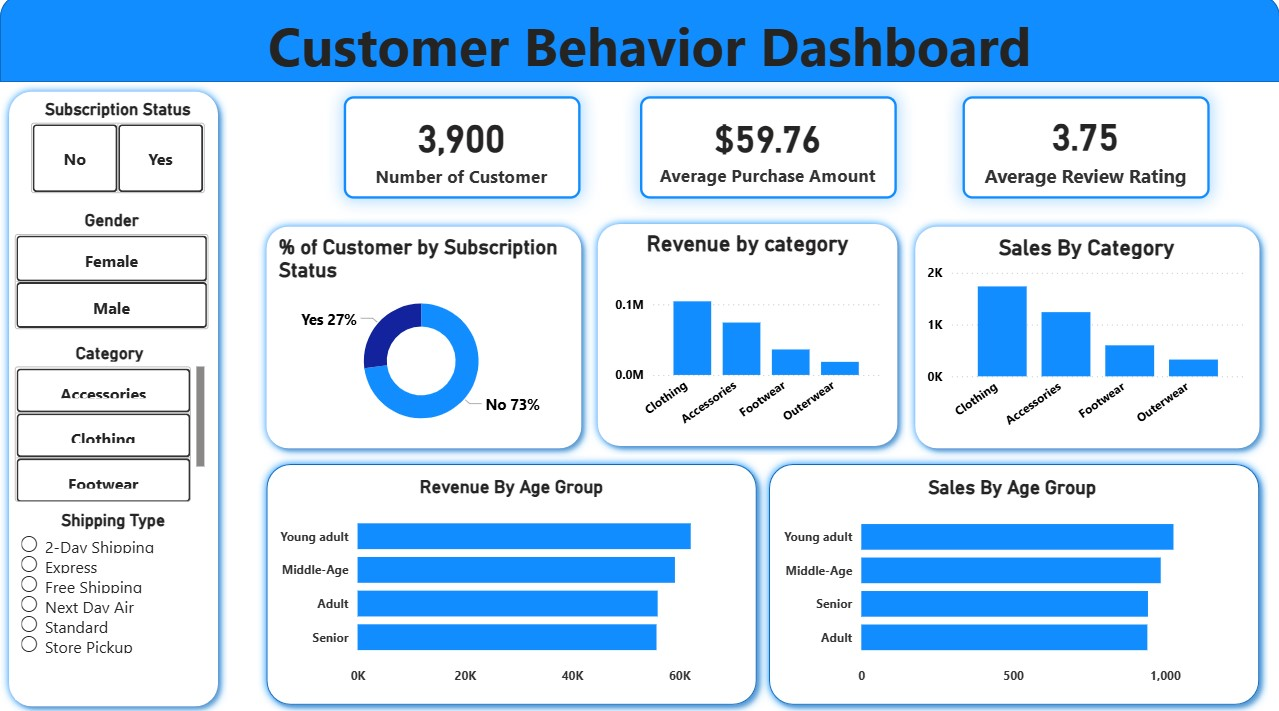

What the dashboard file says about the page in this screenshot:
{"tool":"powerbi","page":{"name":"Page 1","canvas":[1280,720],"ordinal":0},"visuals":[{"type":"card","fields":{"Values":["customer_trend_analysis customer.Average Purchase Amount"]},"box":[640,101.2,256.5,102.4],"z":0},{"type":"card","fields":{"Values":["customer_trend_analysis customer.Average Review Rating"]},"box":[962.4,101.2,247.1,102.4],"z":1000},{"type":"card","fields":{"Values":["customer_trend_analysis customer.Number of Customer"]},"box":[343.5,101.2,236.5,102.4],"z":2000},{"type":"shape","box":[0,0,1280,87.1],"z":2001,"group":"g7"},{"type":"textbox","box":[256.5,8.2,787.1,101.2],"z":2002,"group":"g7"},{"type":"shape","box":[257.6,222.4,332.9,240],"z":2003,"group":"g3"},{"type":"shape","box":[905.9,222.4,362.4,240],"z":2004,"group":"g1"},{"type":"shape","box":[588.2,220,317.6,240],"z":2005,"group":"g2"},{"type":"donutChart","title":"% of Customer by Subscription Status","fields":{"Category":["customer_trend_analysis customer.subscription_status"],"Y":["CountNonNull(customer_trend_analysis customer.customer_id)"]},"box":[274.1,240,295.3,205.9],"z":2006,"group":"g3"},{"type":"clusteredColumnChart","title":"Revenue by category","fields":{"Y":["Sum(customer_trend_analysis customer.purchase_amount)"],"Category":["customer_trend_analysis customer.category"]},"box":[609.4,236.5,275.3,205.9],"z":2007,"group":"g2"},{"type":"clusteredColumnChart","title":"Sales By Category","fields":{"Y":["CountNonNull(customer_trend_analysis customer.customer_id)"],"Category":["customer_trend_analysis customer.category"]},"box":[922.4,240,328.2,203.5],"z":2008,"group":"g1"},{"type":"shape","box":[0,87.1,227.1,632.9],"z":2009,"group":"g6"},{"type":"advancedSlicerVisual","title":"Subscription Status","fields":{"Values":["customer_trend_analysis customer.subscription_status"]},"box":[26.4,103.6,183.1,100],"z":2010,"group":"g6"},{"type":"advancedSlicerVisual","title":"Gender","fields":{"Values":["customer_trend_analysis customer.gender"]},"box":[10.3,214.2,203.6,125.9],"z":2011,"group":"g6"},{"type":"advancedSlicerVisual","title":"Category","fields":{"Values":["customer_trend_analysis customer.category"]},"box":[10.3,347.1,199.2,167.1],"z":2012,"group":"g6"},{"type":"listSlicer","title":"Shipping Type","fields":{"Values":["customer_trend_analysis customer.shipping_type"]},"box":[14.6,514.2,196.3,189.4],"z":2013,"group":"g6"},{"type":"shape","box":[257.6,460,508.2,258.8],"z":2015,"group":"g4"},{"type":"clusteredBarChart","title":"Revenue By Age Group","fields":{"Y":["Sum(customer_trend_analysis customer.purchase_amount)"],"Category":["customer_trend_analysis customer.age_group"]},"box":[274.1,481.2,475.3,217.6],"z":2016,"group":"g4"},{"type":"shape","box":[760,460,508.2,258.8],"z":2017,"group":"g5"},{"type":"clusteredBarChart","title":"Sales By Age Group","fields":{"Y":["CountNonNull(customer_trend_analysis customer.customer_id)"],"Category":["customer_trend_analysis customer.age_group"]},"box":[777.6,481.2,469.4,217.6],"z":2018,"group":"g5"},{"type":"group","id":"g1","title":"Group 1","box":[905.9,222.4,362.4,240],"z":2019},{"type":"group","id":"g2","title":"Group 2","box":[588.2,220,317.6,240],"z":2020},{"type":"group","id":"g3","title":"Group 3","box":[257.6,222.4,332.9,240],"z":2021},{"type":"group","id":"g4","title":"Group 4","box":[257.6,460,508.2,258.8],"z":2022},{"type":"group","id":"g5","title":"Group 5","box":[760,460,508.2,258.8],"z":2023},{"type":"group","id":"g6","title":"Group 6","box":[0,87.1,227.1,632.9],"z":2024},{"type":"group","id":"g7","title":"Group 7","box":[0,0,1280,109.4],"z":2025}]}

Visuals, with their boxes in screenshot pixels (x1, y1, x2, y2), scaled from the page's 1280x720 canvas onto the 1279x711 screenshot:
card - customer_trend_analysis customer.Average Purchase Amount: box=[640, 100, 896, 201]
card - customer_trend_analysis customer.Average Review Rating: box=[962, 100, 1209, 201]
card - customer_trend_analysis customer.Number of Customer: box=[343, 100, 580, 201]
shape: box=[0, 0, 1278, 86]
textbox: box=[256, 8, 1043, 108]
shape: box=[257, 220, 590, 457]
shape: box=[905, 220, 1267, 457]
shape: box=[588, 217, 905, 454]
"% of Customer by Subscription Status" donutChart: box=[274, 237, 569, 440]
"Revenue by category" clusteredColumnChart: box=[609, 234, 884, 437]
"Sales By Category" clusteredColumnChart: box=[922, 237, 1250, 438]
shape: box=[0, 86, 227, 710]
"Subscription Status" advancedSlicerVisual: box=[26, 102, 209, 201]
"Gender" advancedSlicerVisual: box=[10, 212, 214, 336]
"Category" advancedSlicerVisual: box=[10, 343, 209, 508]
"Shipping Type" listSlicer: box=[15, 508, 211, 695]
shape: box=[257, 454, 765, 710]
"Revenue By Age Group" clusteredBarChart: box=[274, 475, 749, 690]
shape: box=[759, 454, 1267, 710]
"Sales By Age Group" clusteredBarChart: box=[777, 475, 1246, 690]
"Group 1" group: box=[905, 220, 1267, 457]
"Group 2" group: box=[588, 217, 905, 454]
"Group 3" group: box=[257, 220, 590, 457]
"Group 4" group: box=[257, 454, 765, 710]
"Group 5" group: box=[759, 454, 1267, 710]
"Group 6" group: box=[0, 86, 227, 710]
"Group 7" group: box=[0, 0, 1278, 108]
